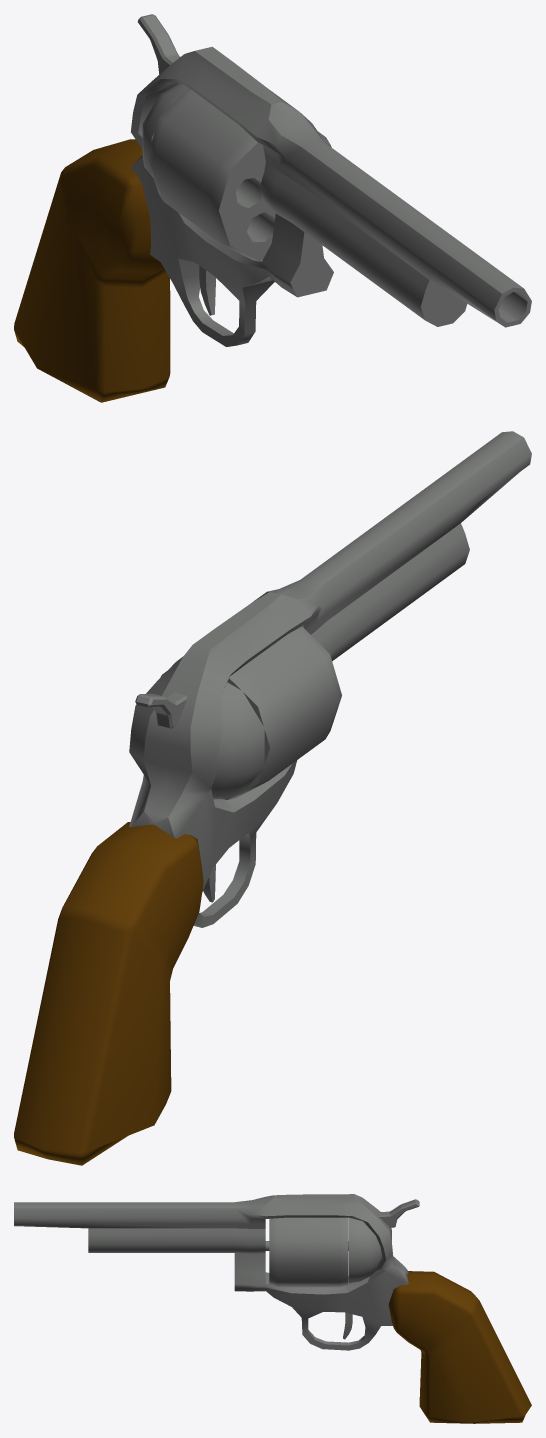
File: Revolver_01.fbx
3 renders of one model, top to bottom at view 1: azimuth 30°, elevation 25°; view 2: azimuth 150°, elevation 25°; view 3: azimuth 270°, elevation 25°, orthographic. The views are drawn at different scales.
Parts seen in each view (by area): view 1: Revolver_base, Revolver_camber, Revolver_hammer, Revolver_trigger; view 2: Revolver_base, Revolver_camber, Revolver_hammer; view 3: Revolver_base, Revolver_camber, Revolver_hammer.
Boxes of the visible parts, box(x1,y1,x2,y2) form: Revolver_base: box(14, 46, 531, 402); Revolver_camber: box(147, 88, 331, 261); Revolver_hammer: box(137, 14, 179, 74); Revolver_trigger: box(199, 266, 215, 315); Revolver_base: box(14, 431, 531, 1165); Revolver_camber: box(160, 626, 341, 799); Revolver_hammer: box(135, 692, 186, 728); Revolver_base: box(14, 1194, 531, 1423); Revolver_camber: box(269, 1217, 347, 1287); Revolver_hammer: box(377, 1199, 419, 1227).
Bounding box in the file's own units: 0.0626 × 0.1814 × 0.3906.
